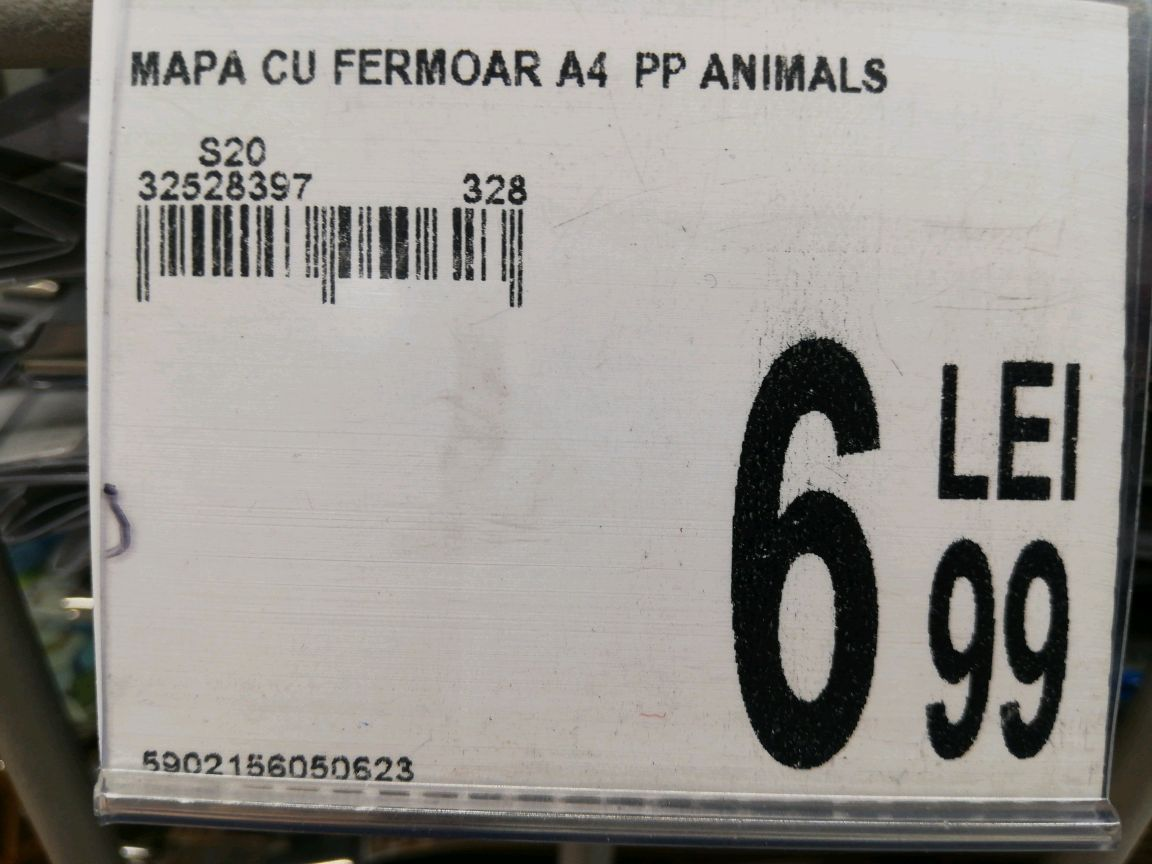price_bani: (908, 523, 1079, 783)
price_lei: (720, 330, 890, 782)
price_tag: (84, 1, 1132, 823)
product_id: (127, 741, 423, 791)
product_name: (119, 36, 906, 110)
